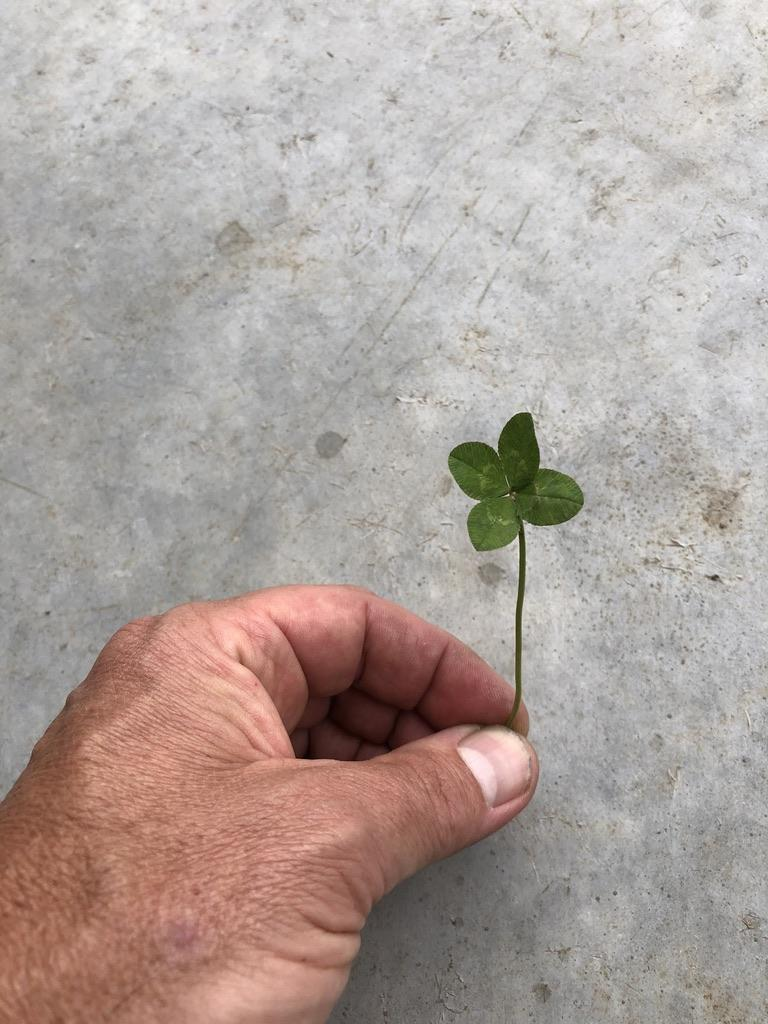4-Leaf-Clovers: (307, 248, 414, 422)
